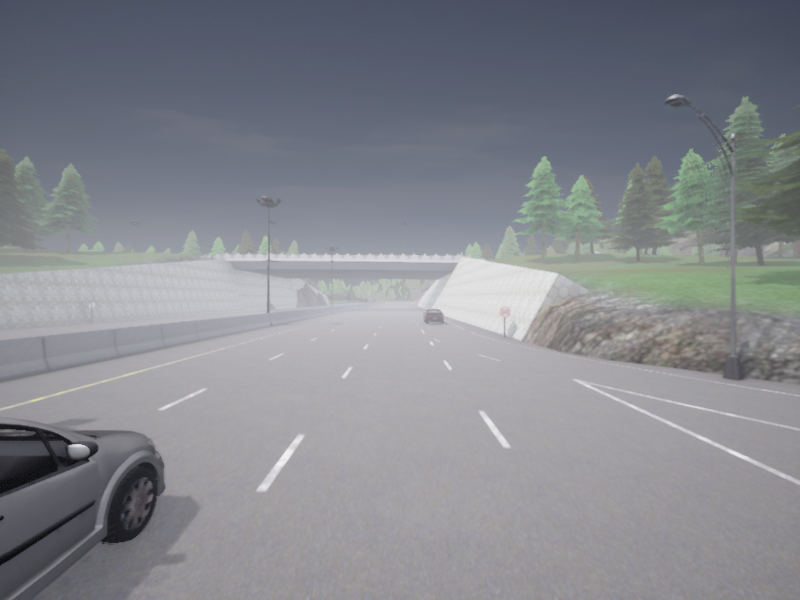vehicle: (0, 417, 165, 599), (423, 308, 443, 322)
